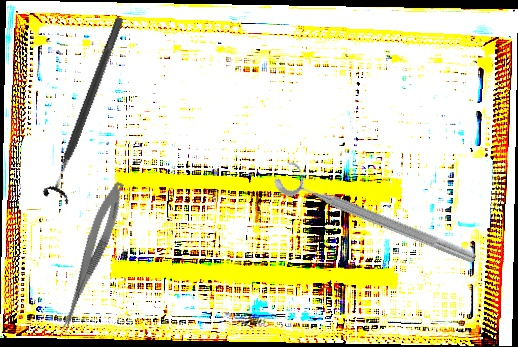Fixation Ring: (271, 156, 484, 270), (39, 12, 135, 206)
Micro Scissor: (55, 178, 129, 340)
